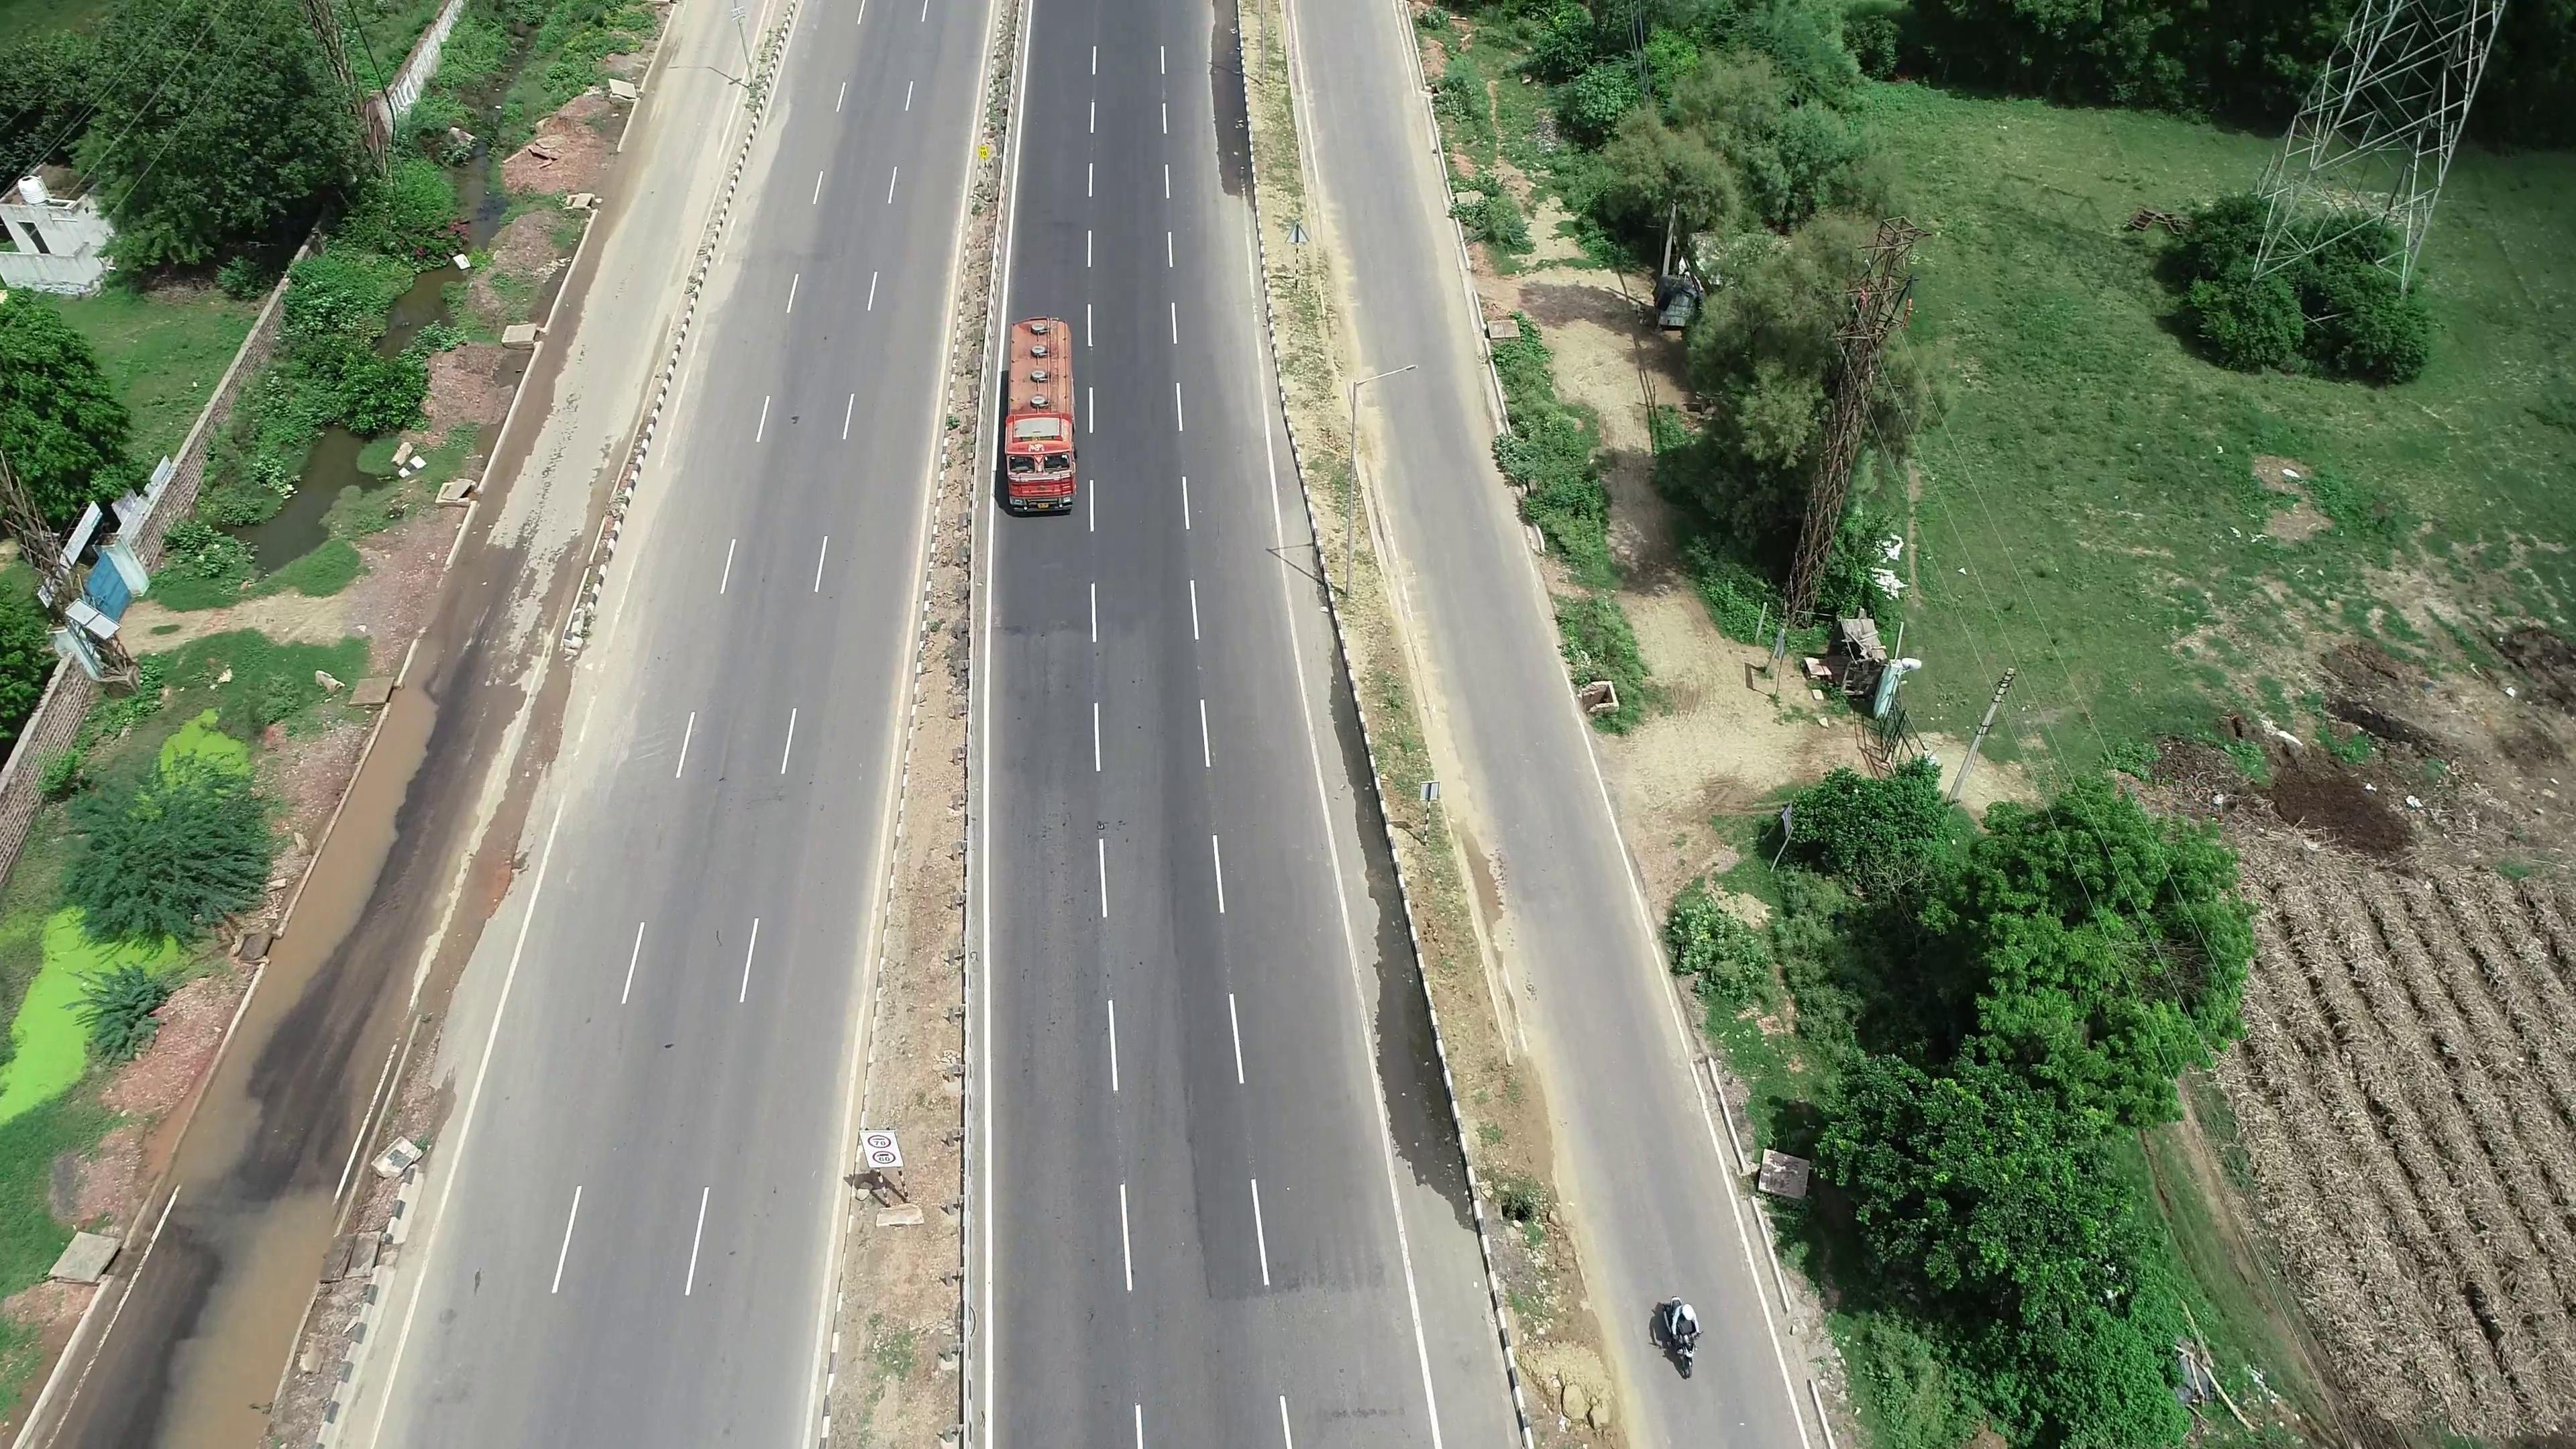Waterlogging: (267, 727, 437, 1001), (159, 1187, 313, 1440)
